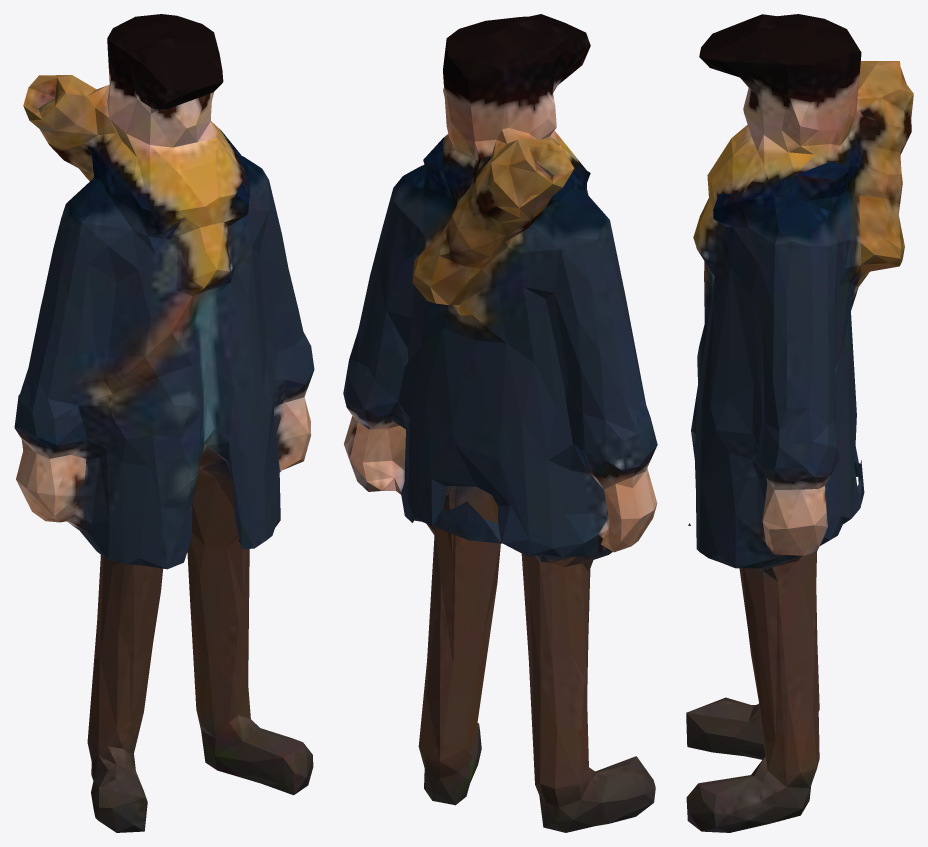
Rendered from habitant-loin.glb.
3 renders of one model, left to right at view 1: azimuth 30°, elevation 25°; view 2: azimuth 150°, elevation 25°; view 3: azimuth 270°, elevation 25°, orthographic. The views are drawn at different scales.
Visible parts, largest first — view 1: habitant; view 2: habitant; view 3: habitant.
Boxes of the visible parts, x1=… form: habitant: x1=14, y1=14, x2=314, y2=832; habitant: x1=343, y1=14, x2=657, y2=832; habitant: x1=686, y1=14, x2=913, y2=832.
Size of the model in its own units: 0.397 by 0.9957 by 0.272.
1 material, 1 textured.
